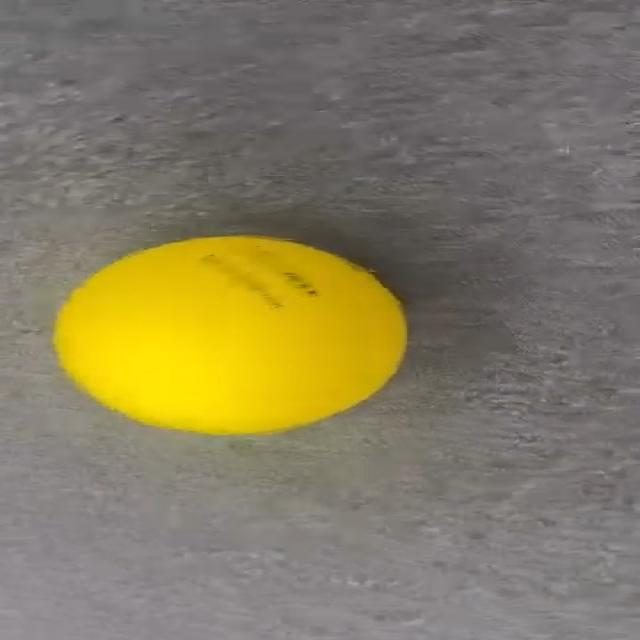Fuels: (55, 235, 409, 435)
